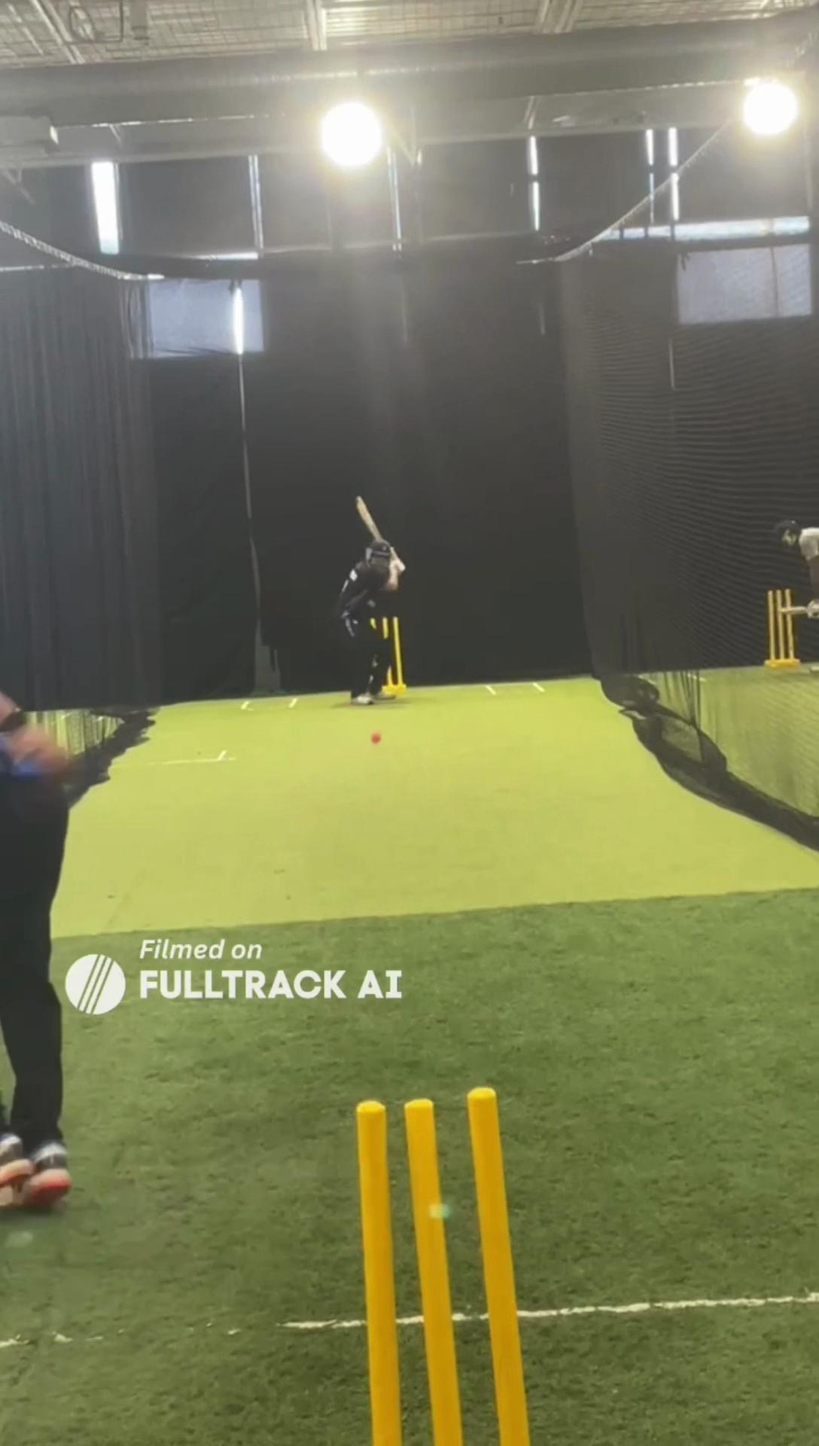ball: (368, 728, 385, 747)
